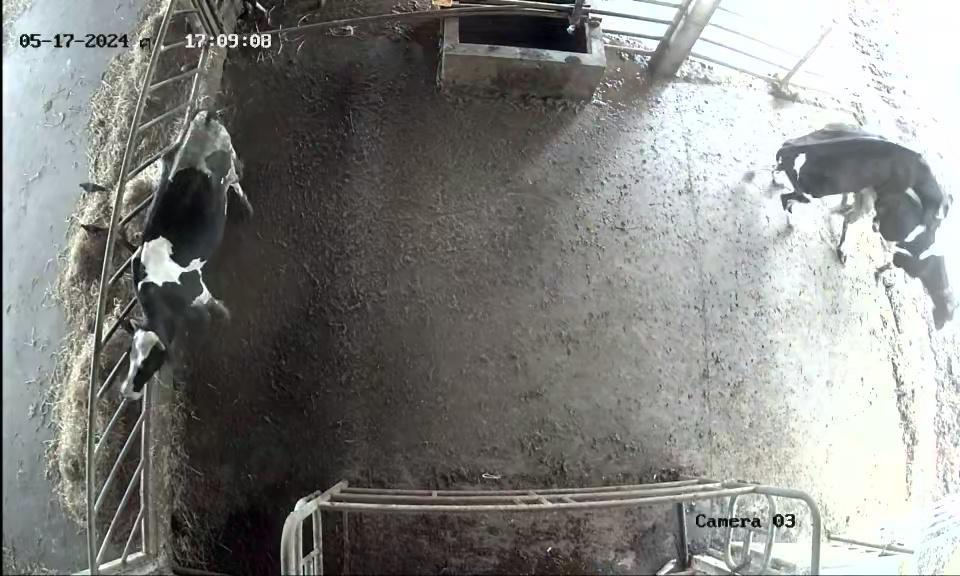ride: (764, 107, 957, 252)
stand: (101, 105, 249, 406), (844, 188, 960, 337)
